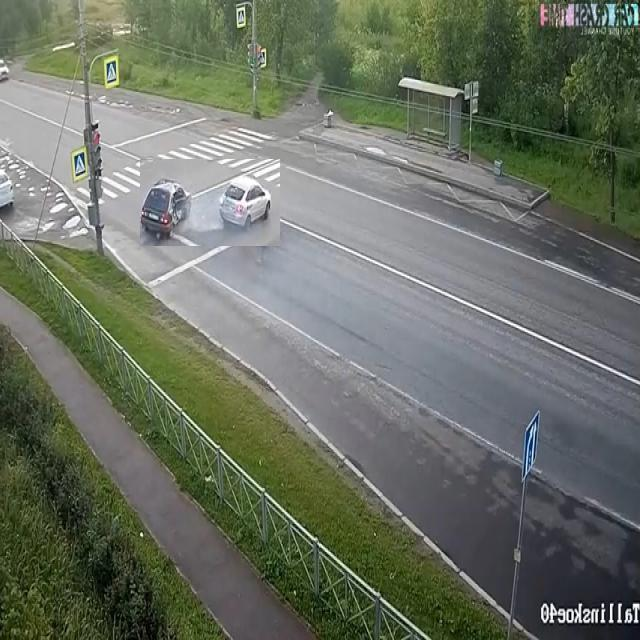normal: (134, 153, 280, 250), (216, 164, 286, 249), (134, 167, 196, 254)
